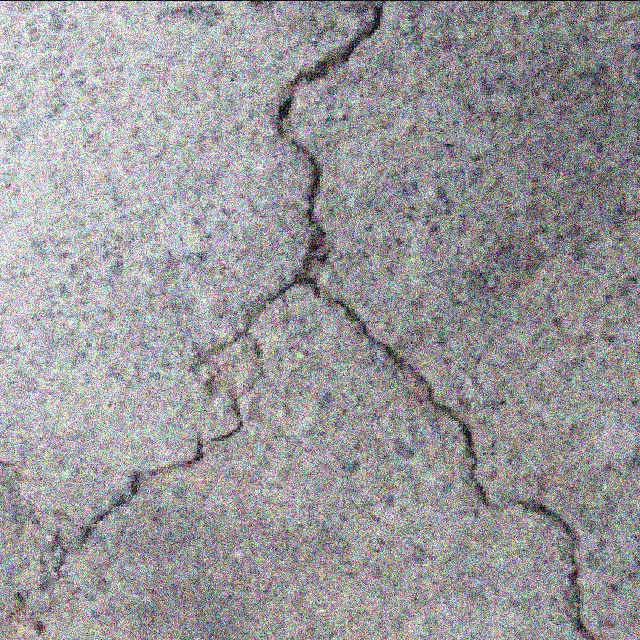SurfaceCrack: (18, 0, 426, 640), (260, 206, 628, 640)
